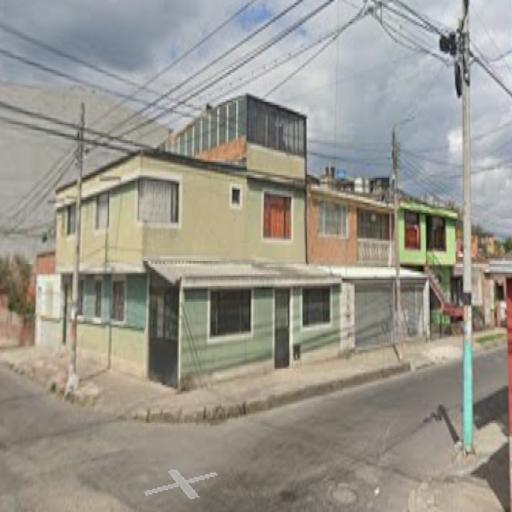poste: (436, 2, 489, 461), (380, 121, 420, 374), (66, 85, 89, 394)
